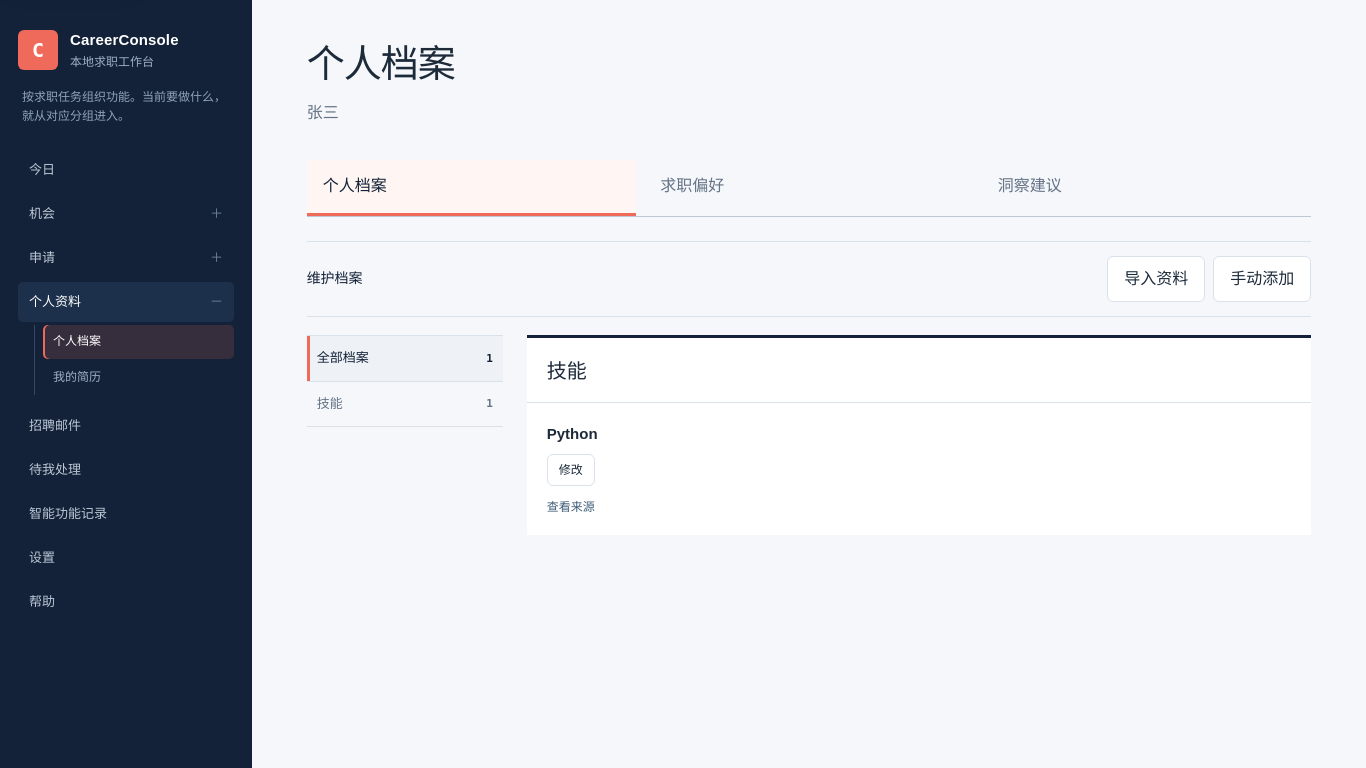
Test: Career app shell › renders the trusted profile from confirmed facts
Check: the heading "个人档案" is shown, box x1=307 y1=44 x2=455 y2=85
Check: the text "张三" is shown, box x1=307 y1=104 x2=339 y2=121
Click the button "求职偏好" at (692,185), box x1=644 y1=160 x2=974 y2=216
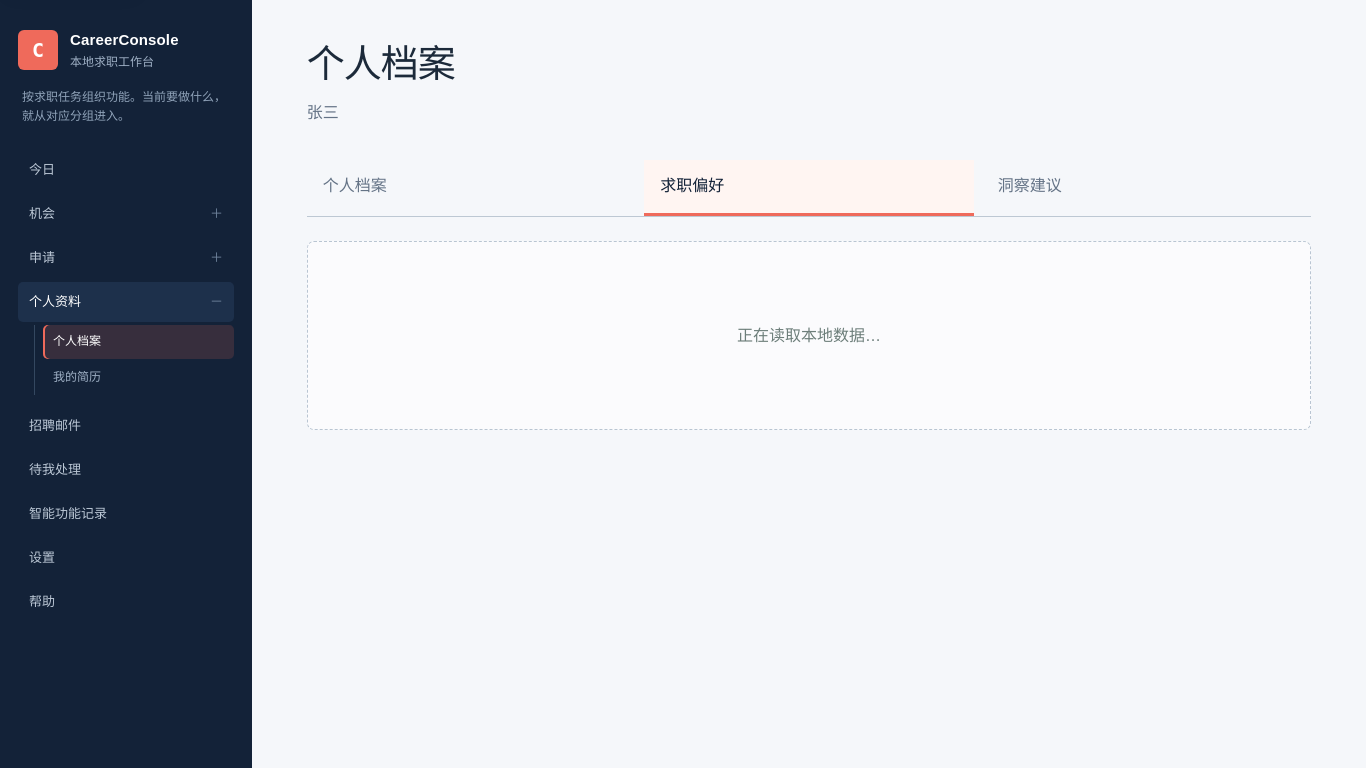
Check: the element "个人档案操作" is gone
Click the button "个人档案" at (355,185), box x1=307 y1=160 x2=636 y2=216
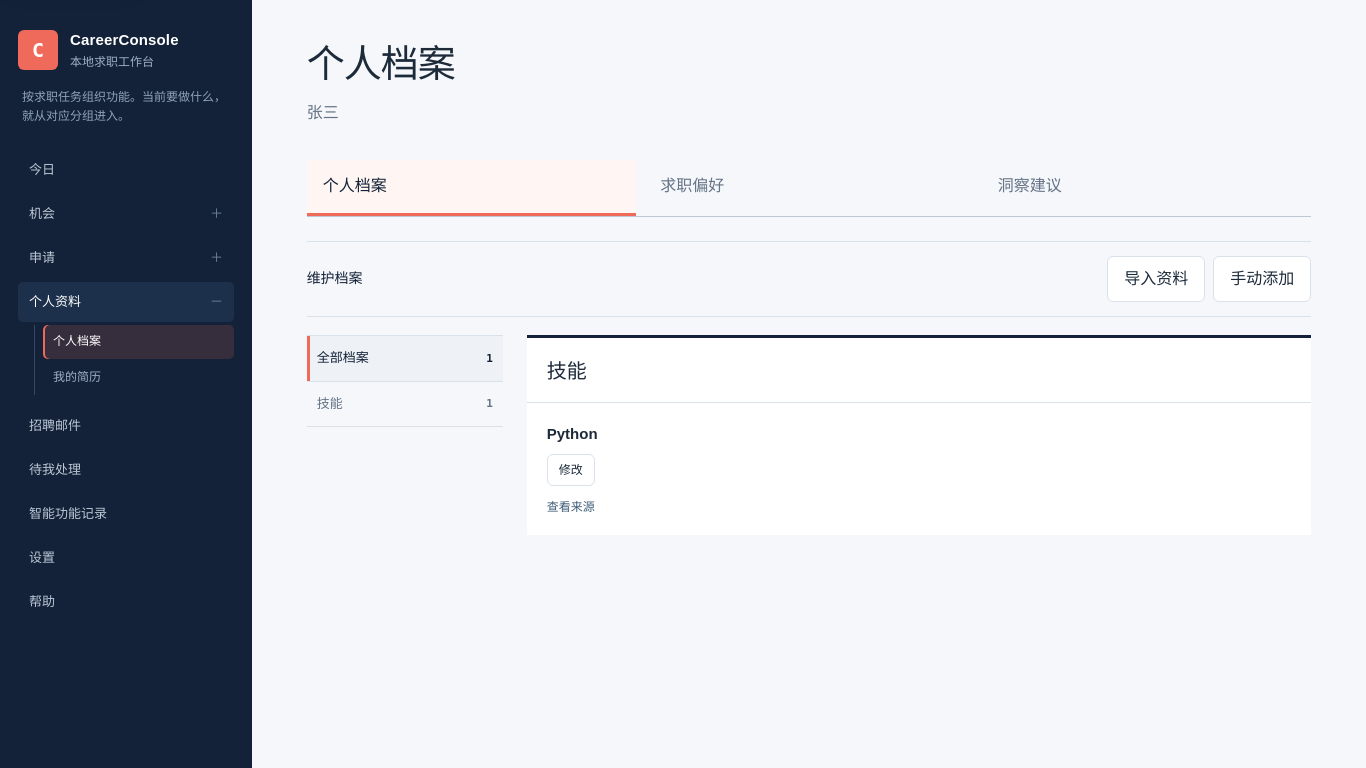
Check: the text "技能：Python" is not shown
Check: the element named "个人档案操作" is shown, box x1=307 y1=241 x2=1311 y2=317
Click the heading "查看来源" at (571,507), box x1=547 y1=498 x2=595 y2=516
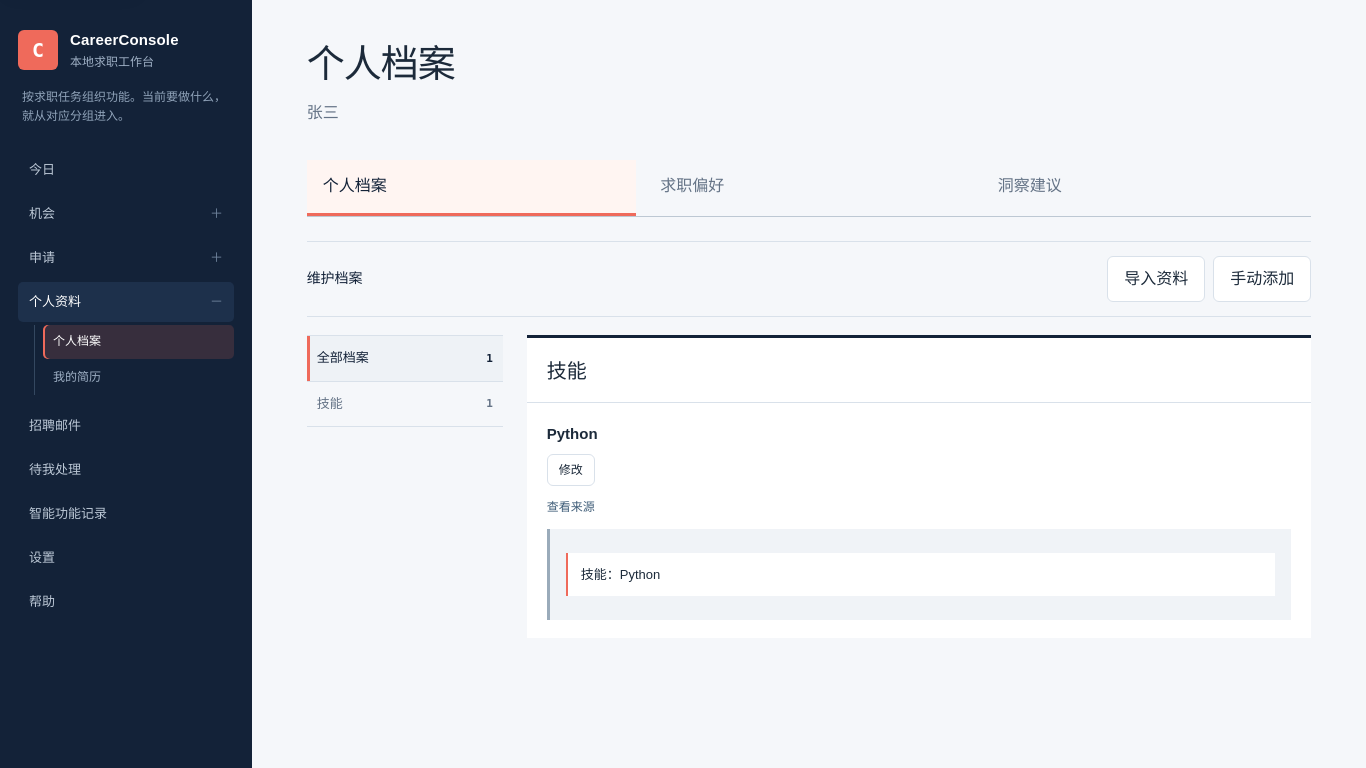
Check: the text "技能：Python" is shown, box x1=566 y1=552 x2=1275 y2=596
